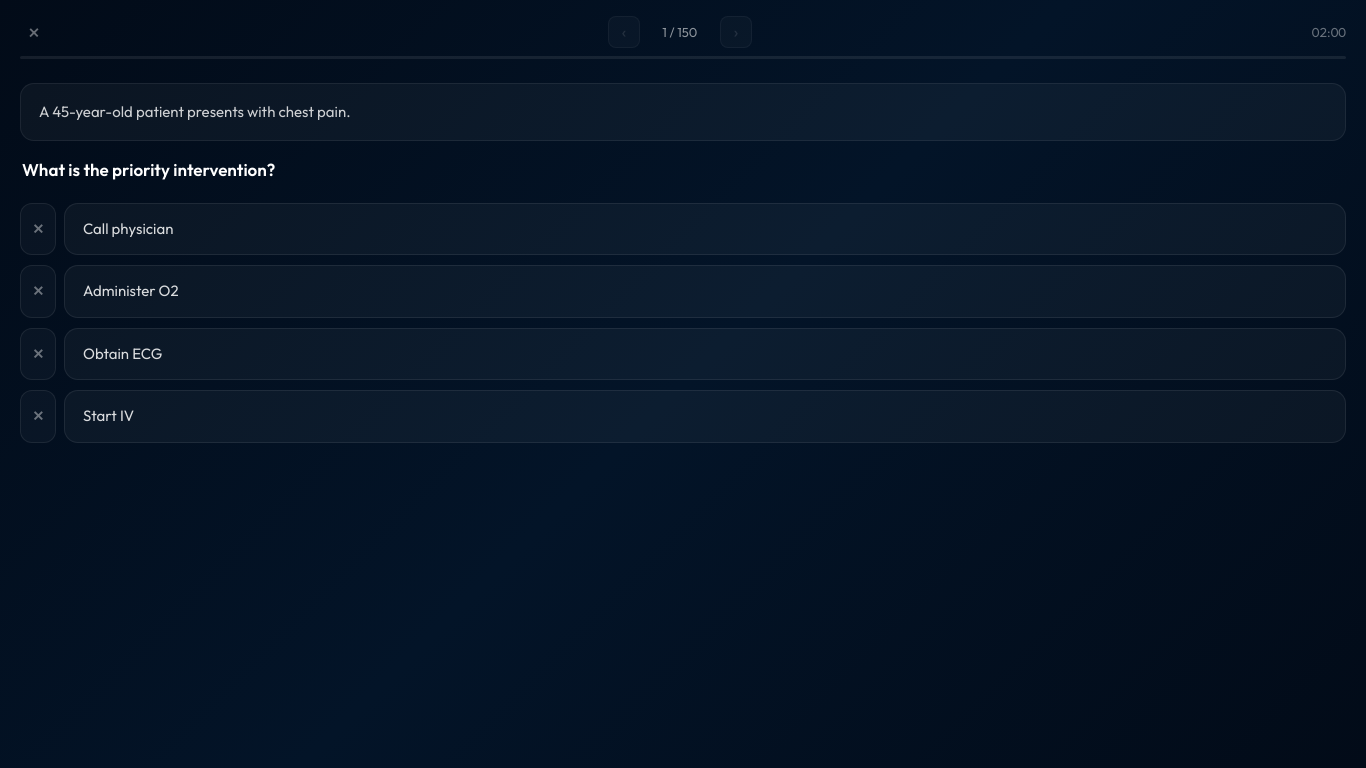
Scenario: CATScreen › striking the currently-selected option deselects it (Submit hides)
The width and height of the screenshot is (1366, 768).
Click the button "Call physician".
click(128, 228)  # box [64,202,1346,255]
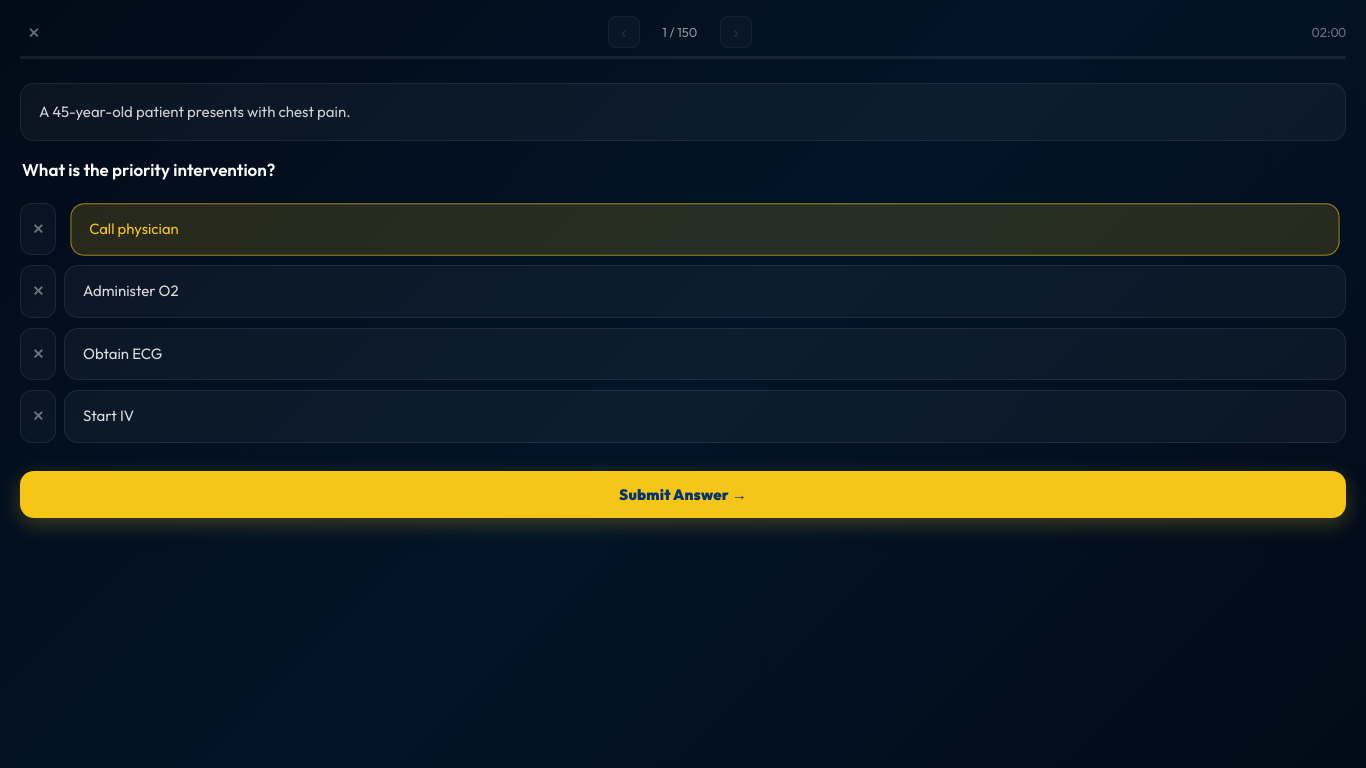
Check: the button "Submit Answer →" is shown, box [20,470,1346,518]
Click the button named "Strike option A".
click(38, 229)  # box [20,202,56,255]
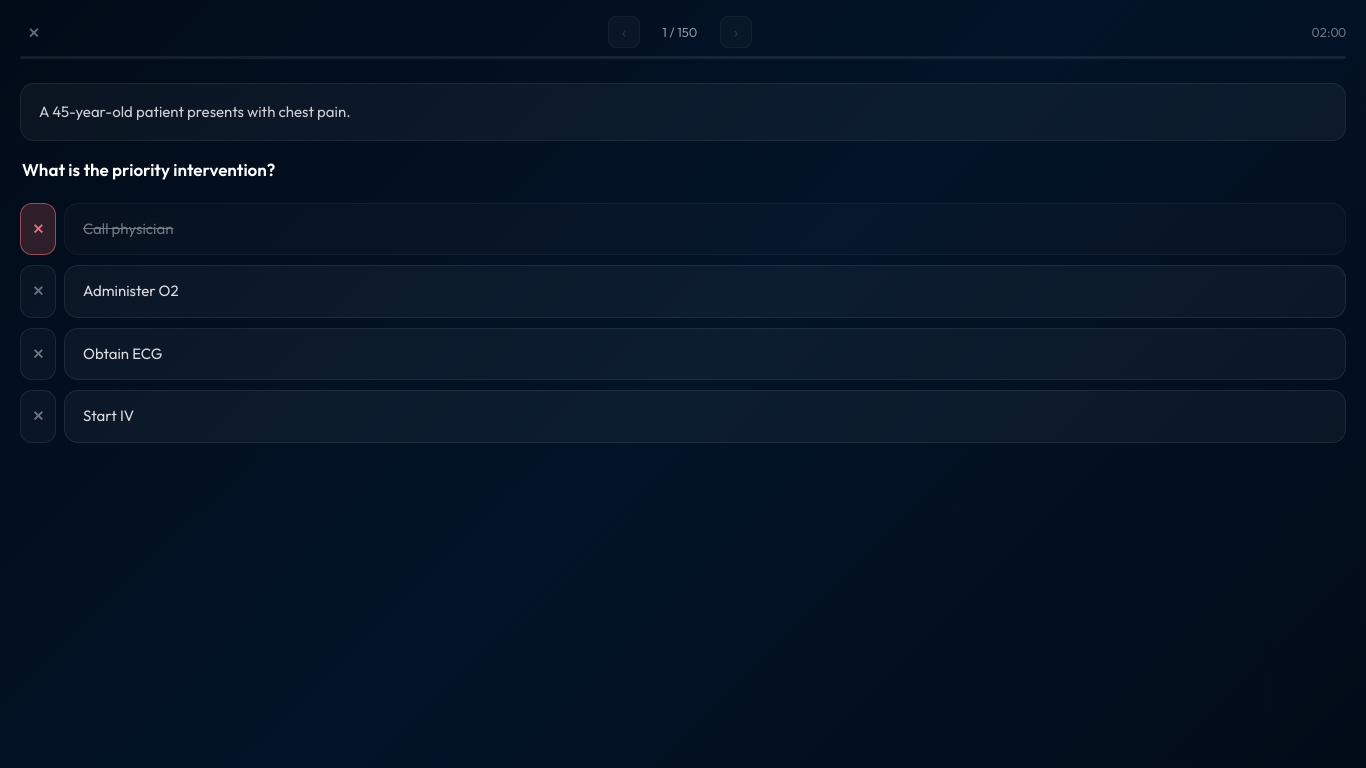
Check: the button "Submit Answer" is gone
